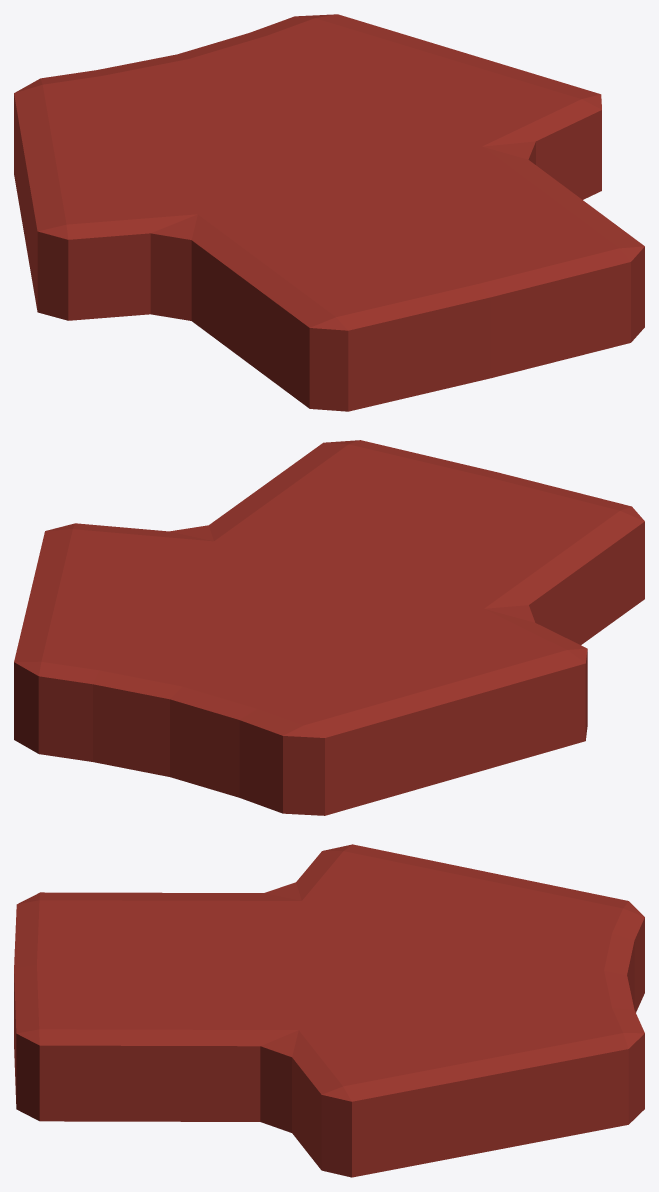
File: PC_RightClamp_TopC.fbx
3 views of the same model, one above another, from view 1: azimuth 30°, elevation 25°; view 2: azimuth 150°, elevation 25°; view 3: azimuth 270°, elevation 25° (orthographic). The views are drawn at different scales.
Visible parts, largest first — view 1: PC_RightClamp_TopC; view 2: PC_RightClamp_TopC; view 3: PC_RightClamp_TopC.
Boxes of the visible parts, left/top/right/bottom form: PC_RightClamp_TopC: left=14, top=14, right=644, bottom=411; PC_RightClamp_TopC: left=14, top=440, right=644, bottom=815; PC_RightClamp_TopC: left=14, top=844, right=644, bottom=1177.
Size of the model in its own units: 0.1465 by 0.0224 by 0.1518.
